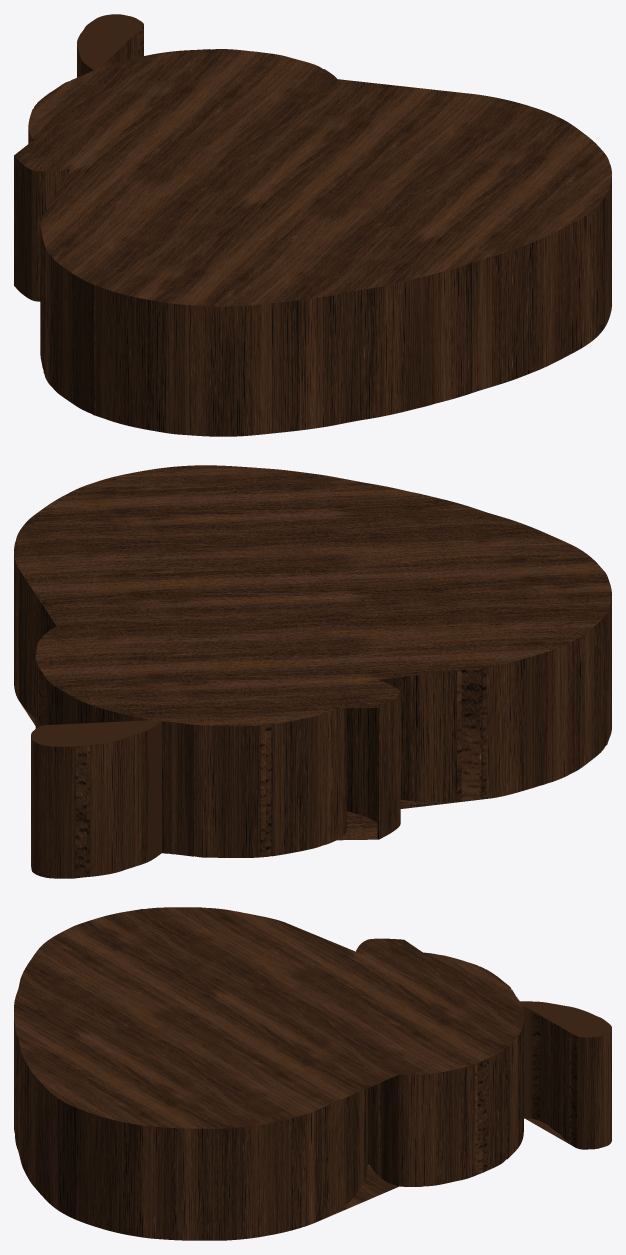
The model's file is 葫芦底座.obj.
3 renders of one model, top to bottom at view 1: azimuth 30°, elevation 25°; view 2: azimuth 150°, elevation 25°; view 3: azimuth 270°, elevation 25°, orthographic. The views are drawn at different scales.
Visible parts, largest first — view 1: 立方体.001; view 2: 立方体.001; view 3: 立方体.001.
Part boxes in pixels (x1,y1,x2,y2): 立方体.001: (14, 14, 611, 436); 立方体.001: (14, 465, 611, 878); 立方体.001: (14, 907, 611, 1240).
Size of the model in its own units: 84.79 by 20 by 96.72.
